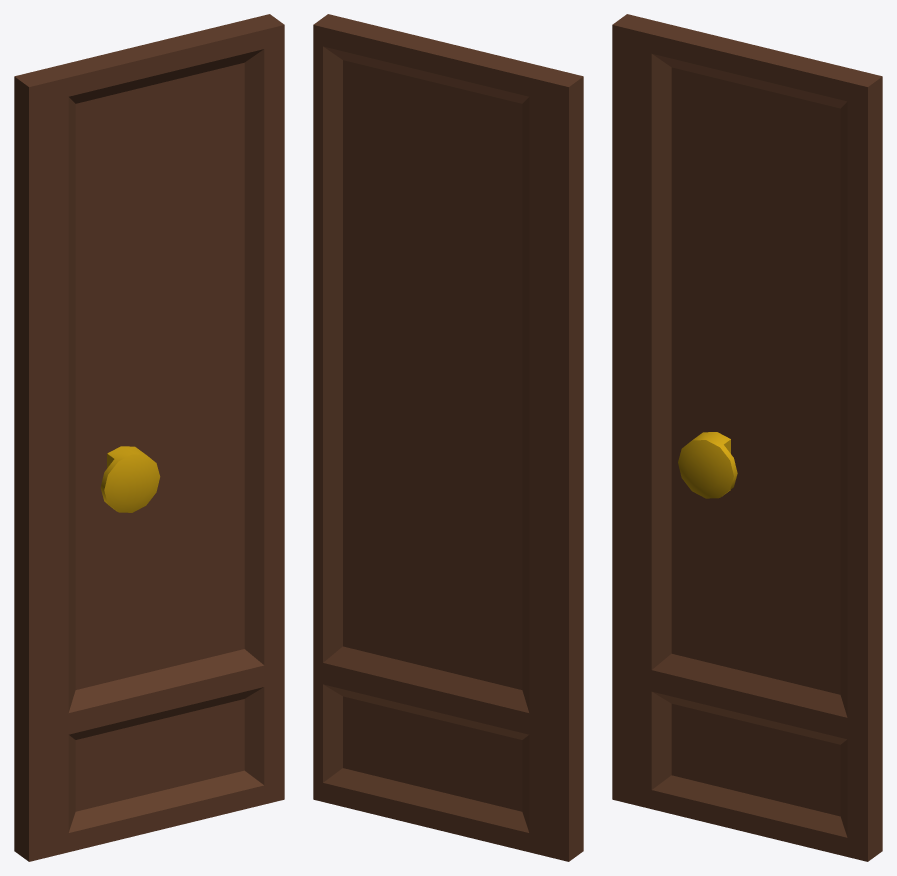
The model's file is SM_Buildings_Church_01_Door_R.fbx.
The picture shows the model from 3 angles, left to right: view 1: azimuth 30°, elevation 25°; view 2: azimuth 150°, elevation 25°; view 3: azimuth 330°, elevation 25°; orthographic projection.
Visible parts, largest first — view 1: SM_Buildings_Church_01_Door_R; view 2: SM_Buildings_Church_01_Door_R; view 3: SM_Buildings_Church_01_Door_R.
Boxes of the visible parts, <box> form: SM_Buildings_Church_01_Door_R: <box>14,14,284,861</box>; SM_Buildings_Church_01_Door_R: <box>313,14,583,861</box>; SM_Buildings_Church_01_Door_R: <box>612,14,882,861</box>.
Bounding box in the file's own units: 0.7297 × 2.11 × 0.1075.
